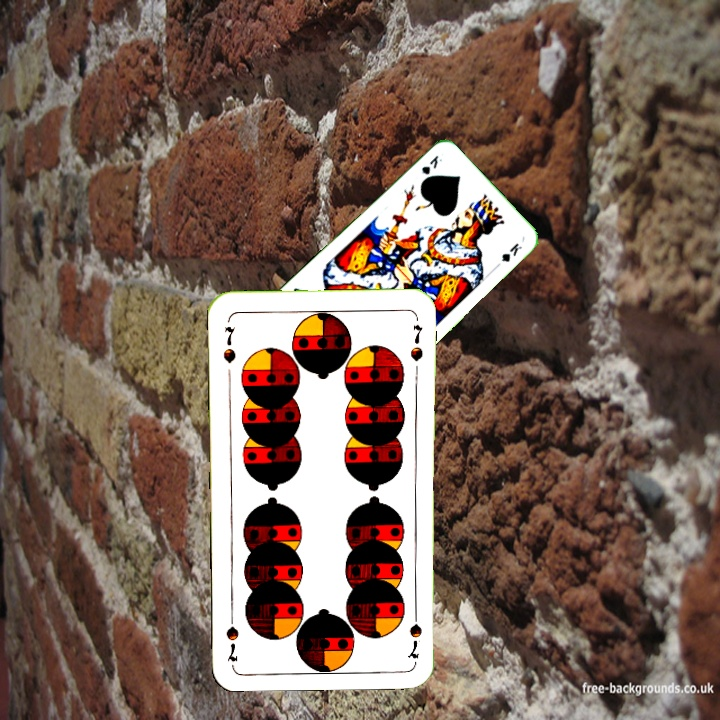GK: (418, 151, 445, 178)
S7: (405, 603, 424, 661), (219, 323, 238, 366)
